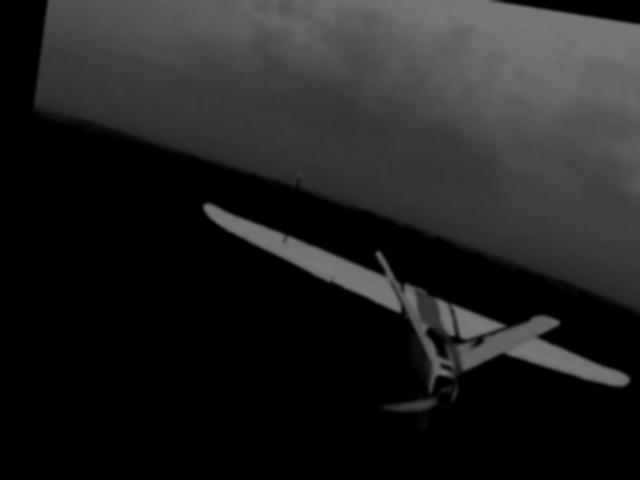hedef: (138, 151, 640, 474)
